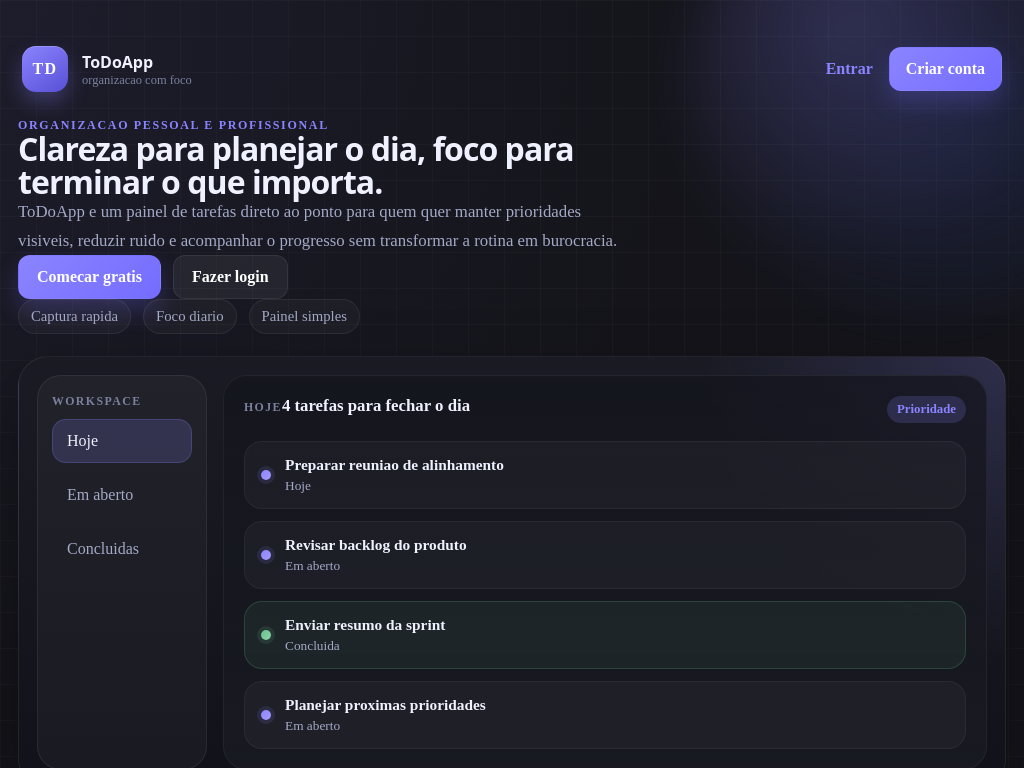
Test case: App smoke flows › renders the public home and navigates to login and register
Expected: the heading "Clareza para planejar o dia" is shown, x1=18 y1=127 x2=574 y2=203
Step 1. Click the link "Entrar" → (849, 69), box x1=826 y1=60 x2=873 y2=78
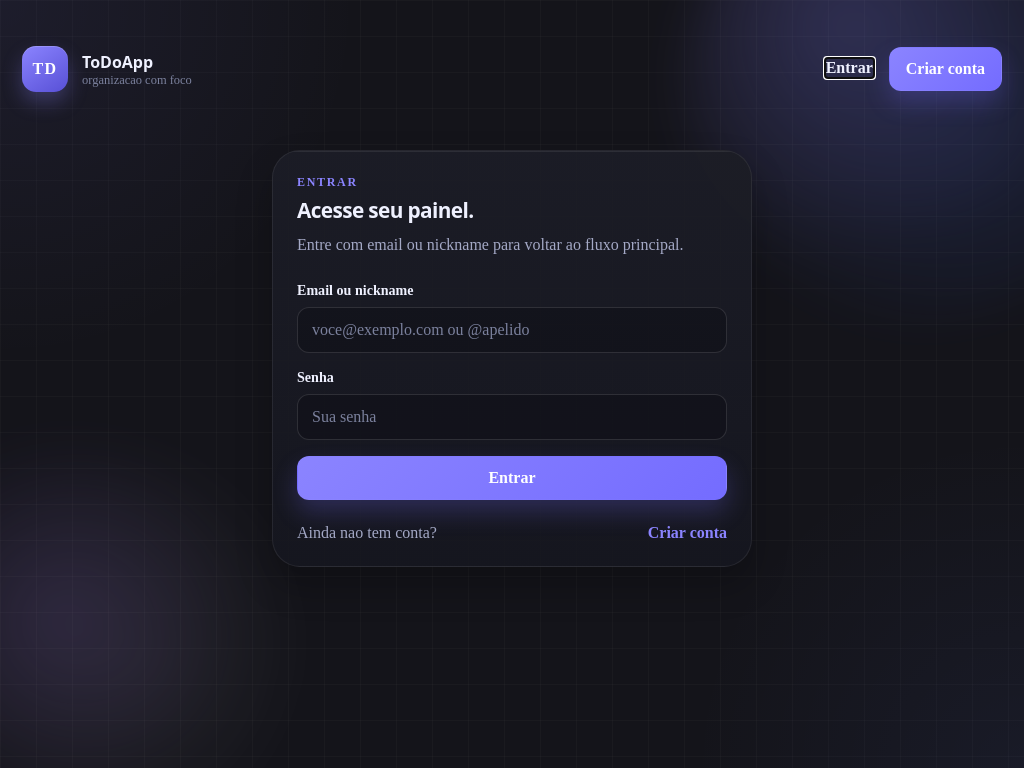
Result: the heading "Acesse seu painel." is shown at x1=297 y1=196 x2=474 y2=224
Step 2. Click the link "Criar conta" in the row of "Ainda nao tem conta?" → (687, 533), box x1=648 y1=524 x2=727 y2=542
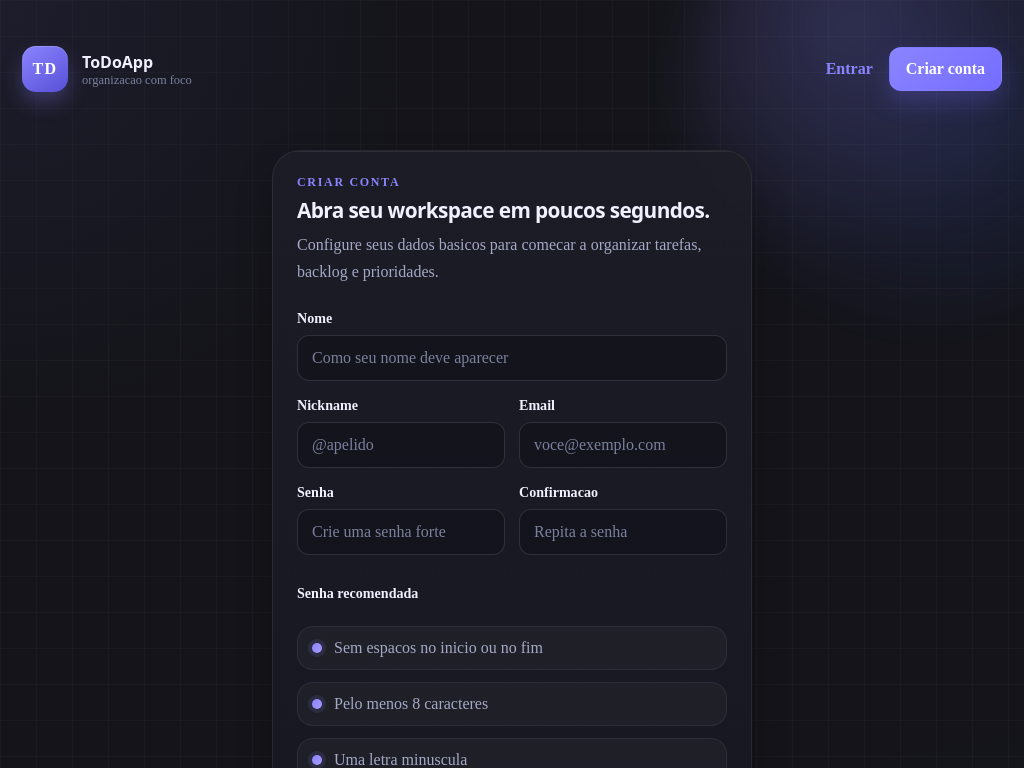
Result: the heading "Abra seu workspace em poucos segundos." is shown at x1=297 y1=200 x2=727 y2=221
